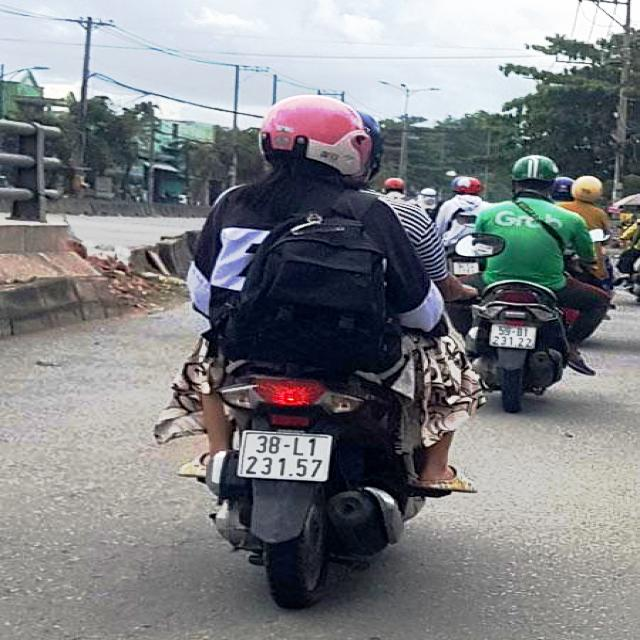license_plate: (239, 431, 332, 483)
